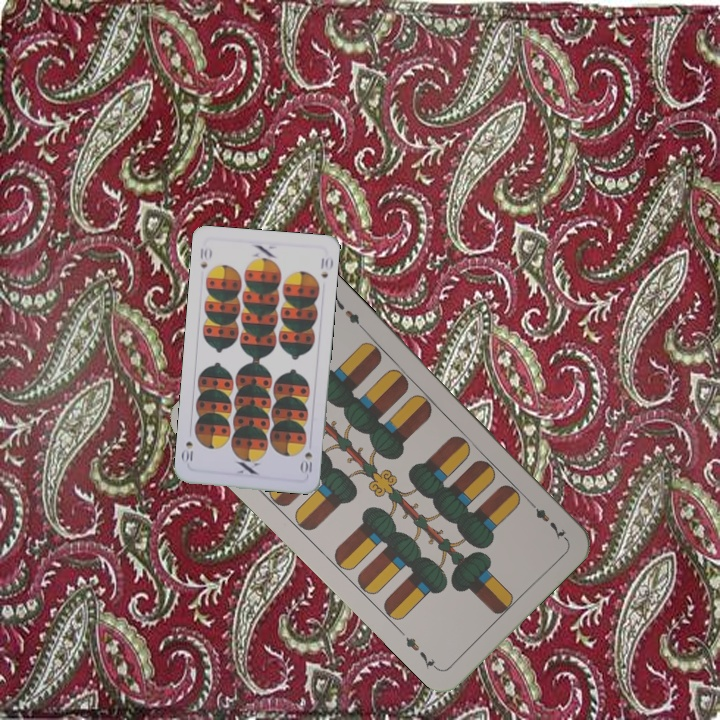E7: (524, 495, 569, 542)
S10: (196, 244, 214, 271), (298, 448, 315, 475)
